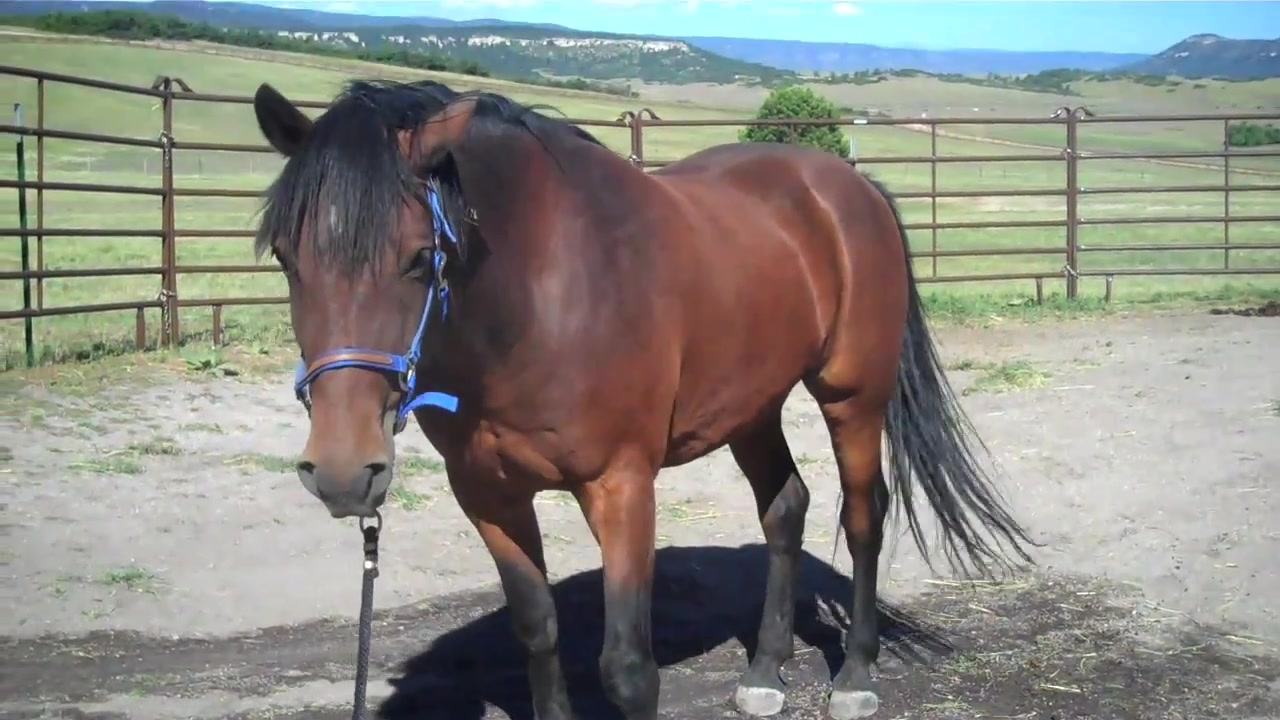horse: (250, 77, 1051, 719)
